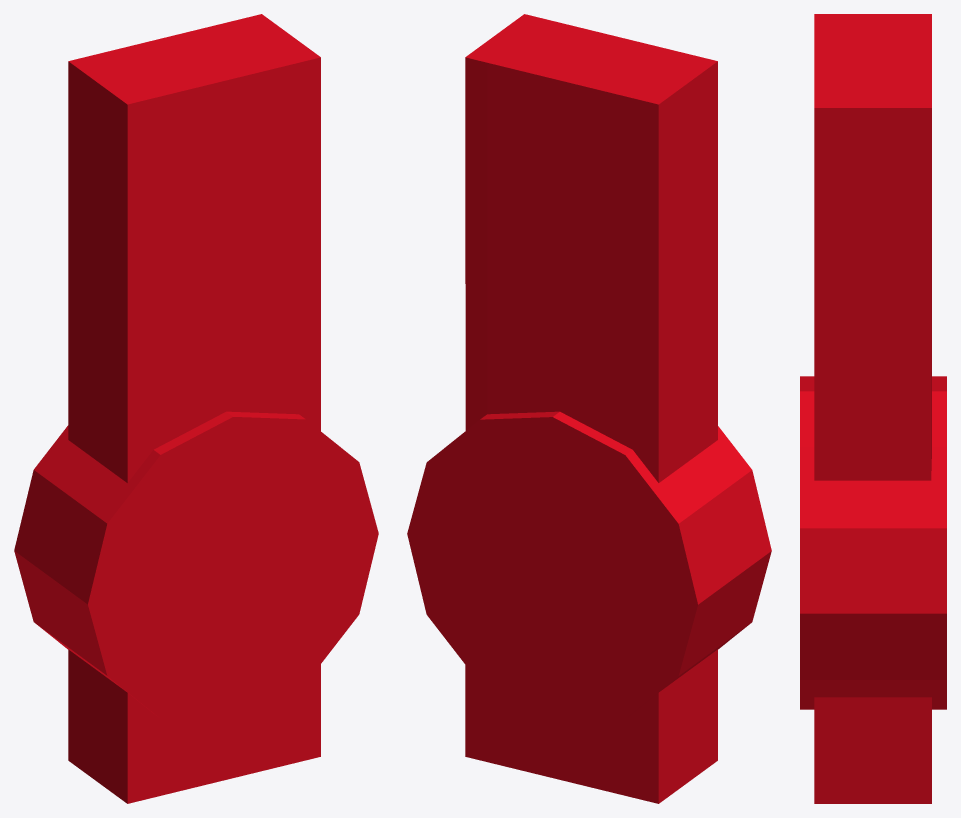
File: Juguete_Rojo.fbx
3 renders of one model, left to right at view 1: azimuth 30°, elevation 25°; view 2: azimuth 150°, elevation 25°; view 3: azimuth 270°, elevation 25°, orthographic.
Visible parts, largest first — view 1: Juguete_5; view 2: Juguete_5; view 3: Juguete_5.
Boxes of the visible parts, bbox=[...] form: Juguete_5: bbox=[14, 14, 378, 803]; Juguete_5: bbox=[407, 14, 771, 803]; Juguete_5: bbox=[800, 14, 946, 803].
Bounding box in the file's own units: 11.74 × 26.97 × 5.15.
